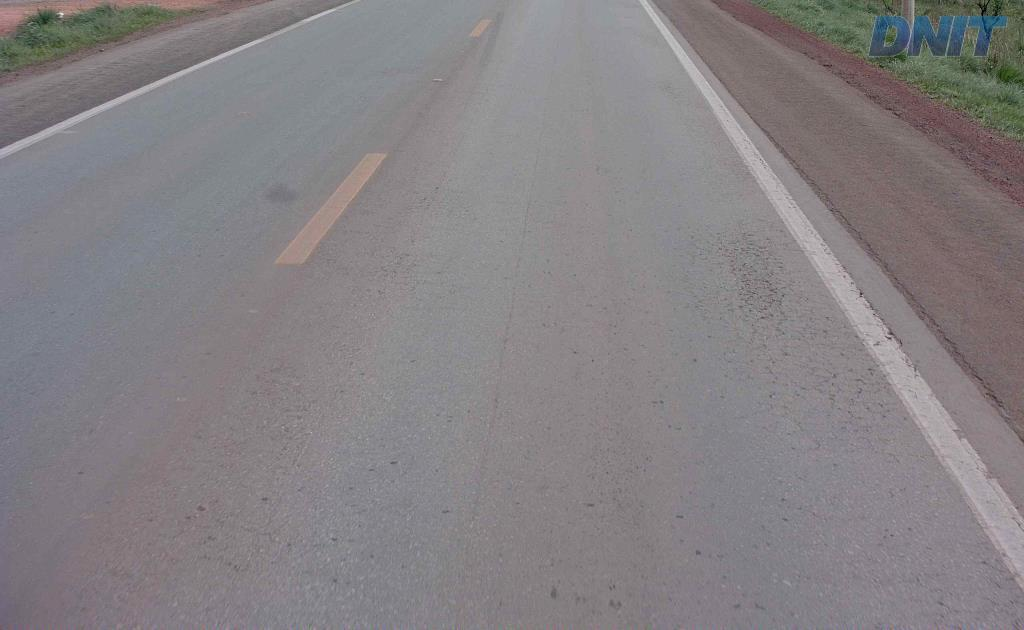crack: (716, 240, 788, 331)
